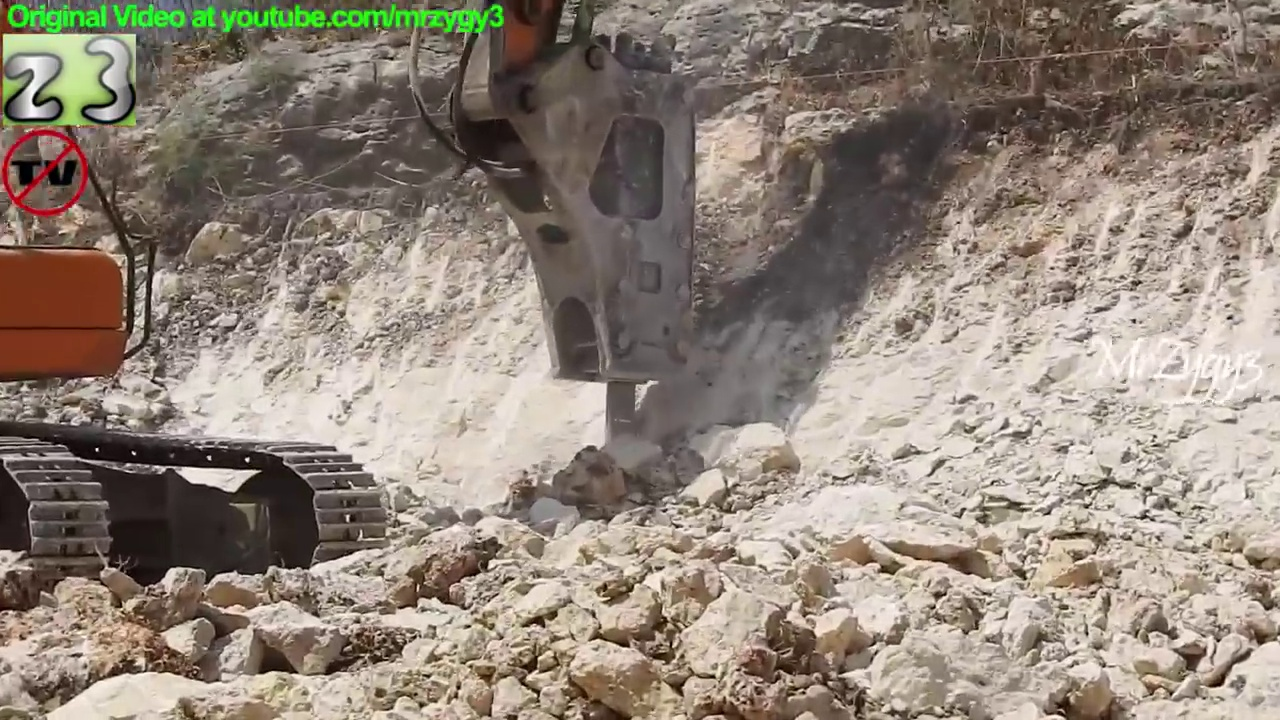excavator: (1, 1, 709, 593)
